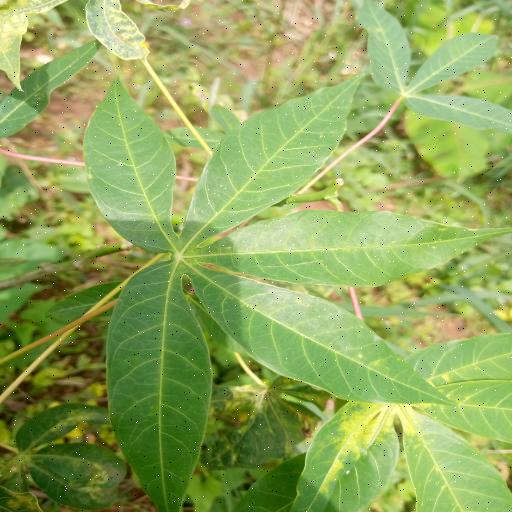Cassava_Healthy: (84, 76, 510, 512)
